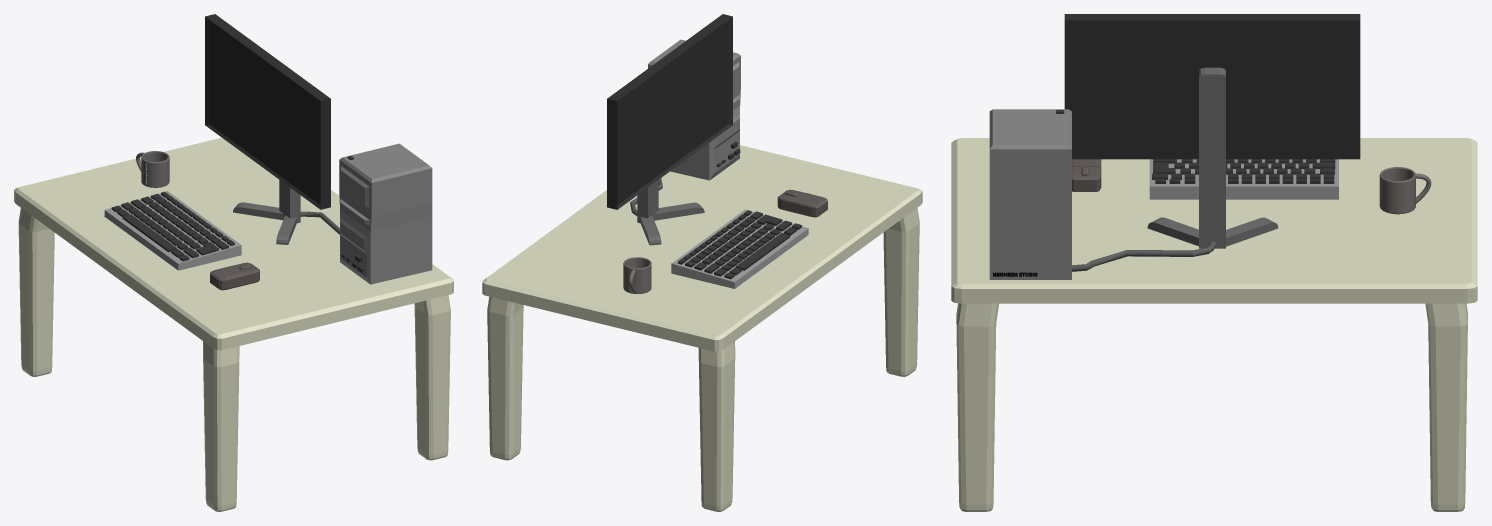
File: basic_desk_bundle_-_low_poly_free.glb
3 renders of one model, left to right at view 1: azimuth 30°, elevation 25°; view 2: azimuth 150°, elevation 25°; view 3: azimuth 270°, elevation 25°, orthographic. The views are drawn at different scales.
Visible parts, largest first — view 1: Upper_Desk, Monitor, Computer, Keyboard, Leg_R2_Desk, Leg_R1_Desk, Leg_L2_Desk, Mouse, Mug; view 2: Upper_Desk, Monitor, Keyboard, Leg_L2_Desk, Leg_L1_Desk, Leg_R2_Desk, Computer, Mouse, Mug; view 3: Upper_Desk, Monitor, Computer, Leg_L1_Desk, Leg_R1_Desk, Keyboard, Mug, Cable, Mouse.
Boxes of the visible parts, bbox=[...] form: Upper_Desk: bbox=[14, 137, 453, 350]; Monitor: bbox=[205, 14, 330, 244]; Computer: bbox=[339, 143, 432, 284]; Keyboard: bbox=[104, 191, 241, 270]; Leg_R2_Desk: bbox=[203, 341, 239, 511]; Leg_R1_Desk: bbox=[414, 295, 450, 460]; Leg_L2_Desk: bbox=[18, 208, 54, 376]; Mouse: bbox=[210, 262, 259, 290]; Mug: bbox=[141, 151, 169, 187]; Upper_Desk: bbox=[482, 145, 922, 351]; Monitor: bbox=[607, 14, 732, 245]; Keyboard: bbox=[671, 209, 808, 288]; Leg_L2_Desk: bbox=[698, 341, 735, 511]; Leg_L1_Desk: bbox=[487, 296, 523, 460]; Leg_R2_Desk: bbox=[883, 208, 919, 376]; Computer: bbox=[648, 39, 740, 180]; Mouse: bbox=[777, 189, 827, 217]; Mug: bbox=[623, 257, 651, 293]; Upper_Desk: bbox=[951, 138, 1477, 303]; Monitor: bbox=[1064, 14, 1360, 248]; Computer: bbox=[989, 109, 1071, 279]; Leg_L1_Desk: bbox=[1425, 303, 1467, 511]; Leg_R1_Desk: bbox=[956, 303, 998, 511]; Keyboard: bbox=[1149, 159, 1338, 199]; Mug: bbox=[1379, 167, 1415, 214]; Cable: bbox=[1072, 241, 1216, 271]; Mouse: bbox=[1072, 159, 1101, 191].
Bounding box in the file's own units: 1.11 × 1.54 × 1.66.
